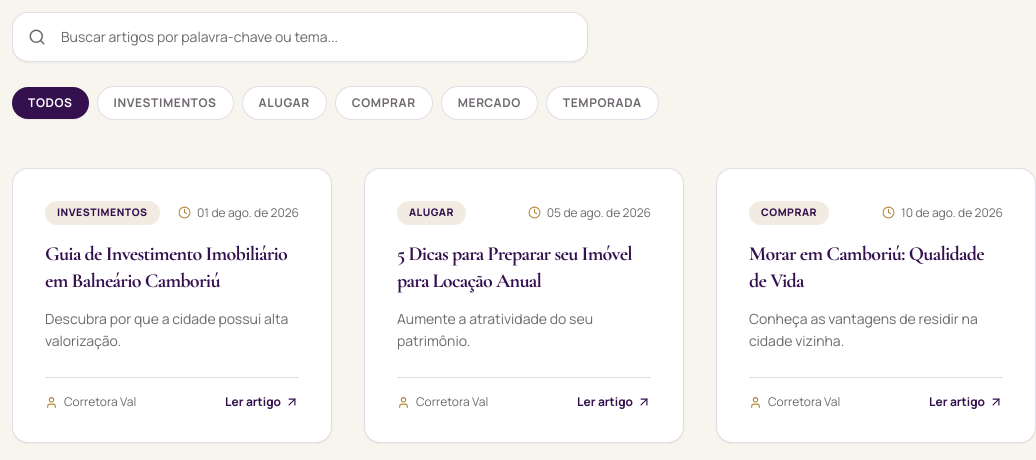
it: BlogClientWrapper — sem flash de carregamento › filtra instantaneamente por texto no campo de busca sem loading
This screenshot has width=1036, height=460.
Note: Busca por 'Camboriú' — deve retornar post-1 e post-3
Type "Camboriú" into the field with placeholder "Buscar artigos por palavra-chave ou tema..." at [300, 37], box [12,12,588,62]
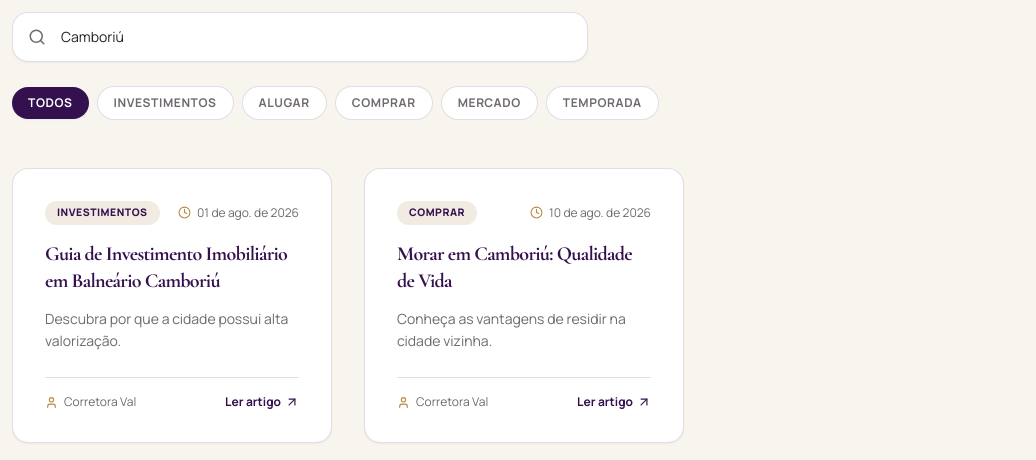
Expected: the heading "Guia de Investimento Imobiliário em Balneário Camboriú" is shown, [45,241,299,296]
Now the link "5 Dicas para Preparar seu Imóvel para Locação Anual" is gone
Note: Busca sem resultado — deve mostrar "Nenhum artigo encontrado" e jamais loading
Replace the text in the field with placeholder "Buscar artigos por palavra-chave ou tema..." with "xyz-inexistente" at [300, 37], box [12,12,588,62]
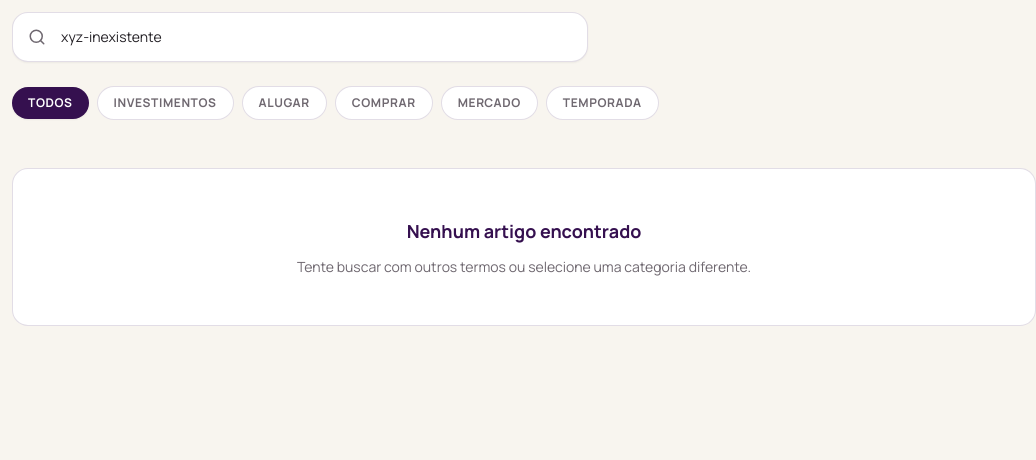
Now the heading "Nenhum artigo encontrado" is shown, box [407,219,641,243]
